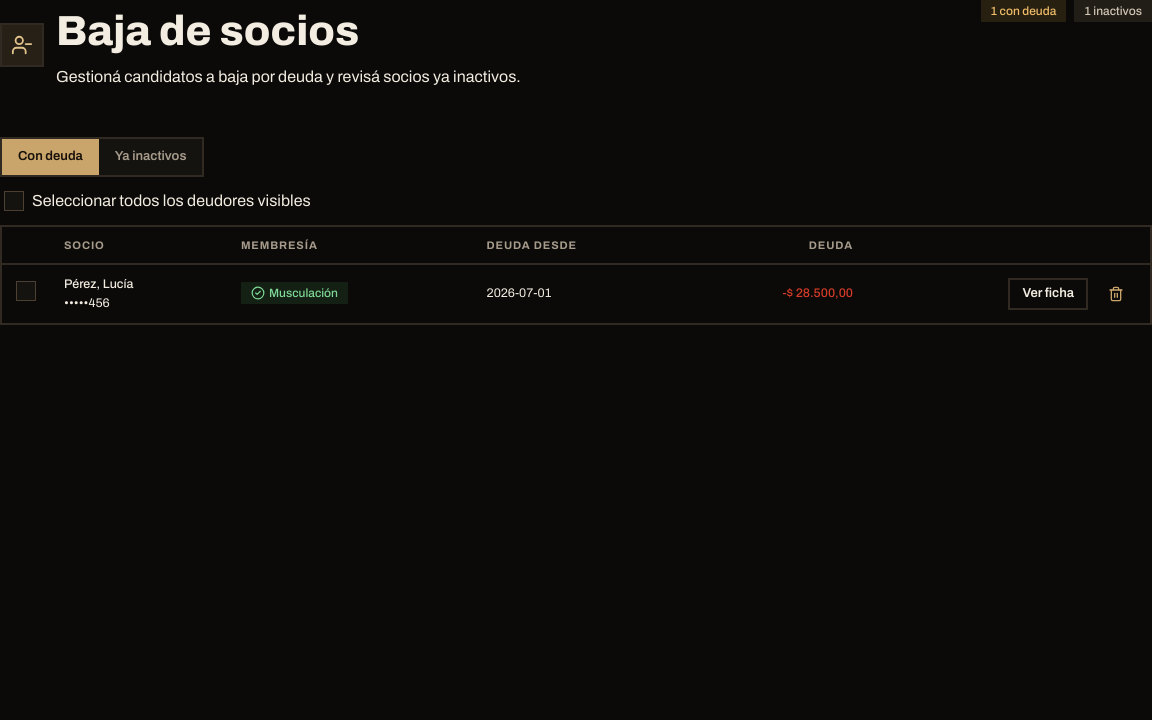
Test: InactiveMembersPage › el ícono de baja por fila abre la confirmación para ese socio
The width and height of the screenshot is (1152, 720).
Expected: the link "Pérez, Lucía" is shown, [64,277,133,291]
Click the button named "Dar de baja a Lucía Pérez": (1116, 294) [1096,278,1136,310]
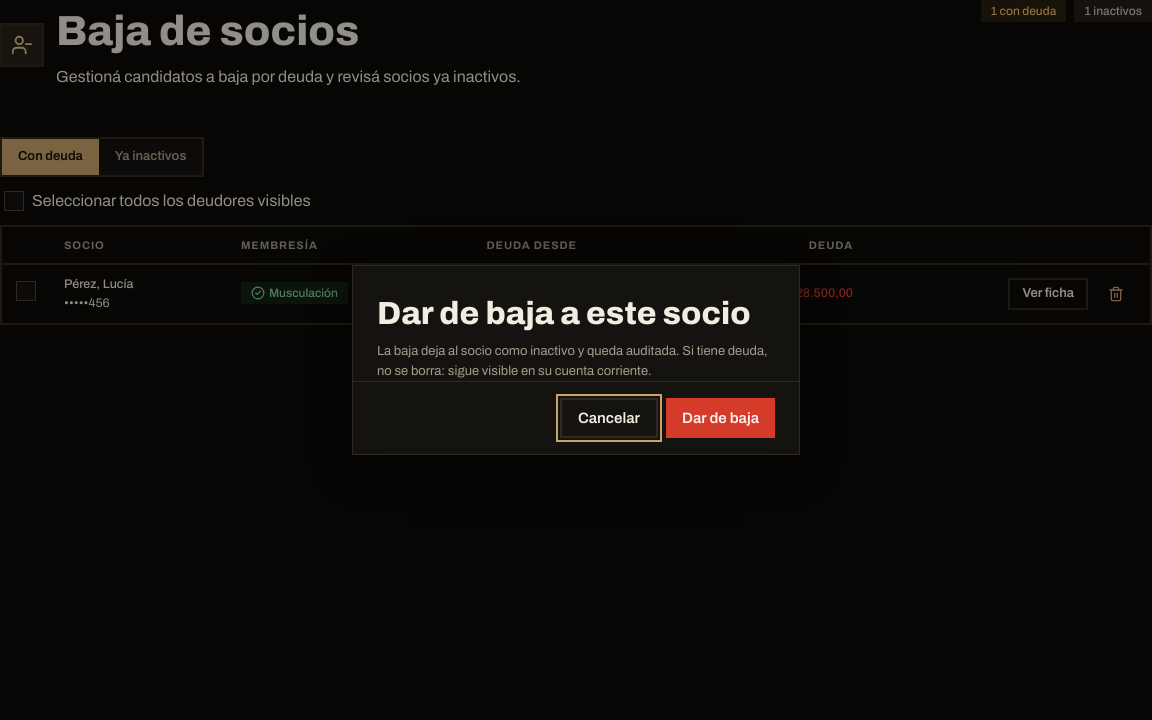
Result: the heading "Dar de baja a este socio" is shown at [377,290,775,338]
